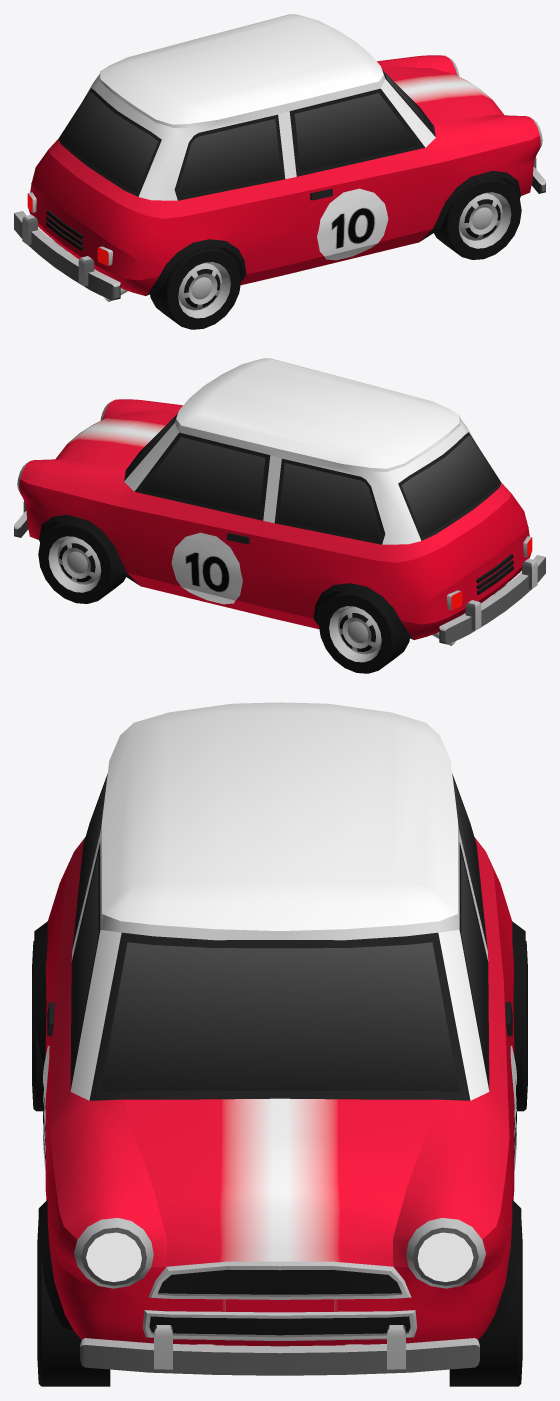
Rendered from RaceCar_109.glb.
3 renders of one model, top to bottom at view 1: azimuth 30°, elevation 25°; view 2: azimuth 150°, elevation 25°; view 3: azimuth 270°, elevation 25°, orthographic. The views are drawn at different scales.
Visible parts, largest first — view 1: RaceCar_109, wheel_3_RaceCar_109_Wheel_2R, wheel_1_RaceCar_109_Wheel_1R; view 2: RaceCar_109, wheel_2_RaceCar_109_Wheel_2L, wheel_0_RaceCar_109_Wheel_1L; view 3: RaceCar_109, wheel_0_RaceCar_109_Wheel_1L, wheel_1_RaceCar_109_Wheel_1R, wheel_2_RaceCar_109_Wheel_2L, wheel_3_RaceCar_109_Wheel_2R.
Part boxes in pixels (bbox=[...]): RaceCar_109: bbox=[14, 14, 545, 301]; wheel_3_RaceCar_109_Wheel_2R: bbox=[150, 246, 241, 329]; wheel_1_RaceCar_109_Wheel_1R: bbox=[434, 176, 521, 259]; RaceCar_109: bbox=[14, 358, 545, 645]; wheel_2_RaceCar_109_Wheel_2L: bbox=[318, 590, 409, 673]; wheel_0_RaceCar_109_Wheel_1L: bbox=[38, 520, 125, 603]; RaceCar_109: bbox=[33, 702, 526, 1375]; wheel_0_RaceCar_109_Wheel_1L: bbox=[449, 1216, 522, 1386]; wheel_1_RaceCar_109_Wheel_1R: bbox=[37, 1216, 110, 1386]; wheel_2_RaceCar_109_Wheel_2L: bbox=[514, 941, 527, 1111]; wheel_3_RaceCar_109_Wheel_2R: bbox=[32, 941, 45, 1111].
Size of the model in its own units: 3.48 by 1.48 by 1.65.
3 materials, 3 textured.
